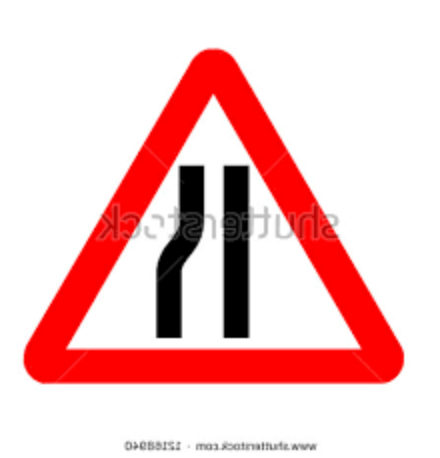Narrow_road: (16, 47, 410, 388)
